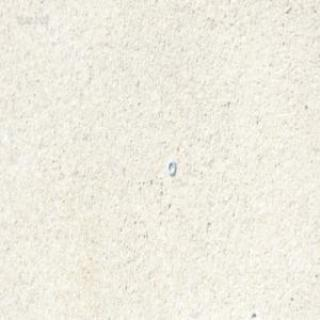Washertrack_idkeyframe: (167, 160, 175, 176)
